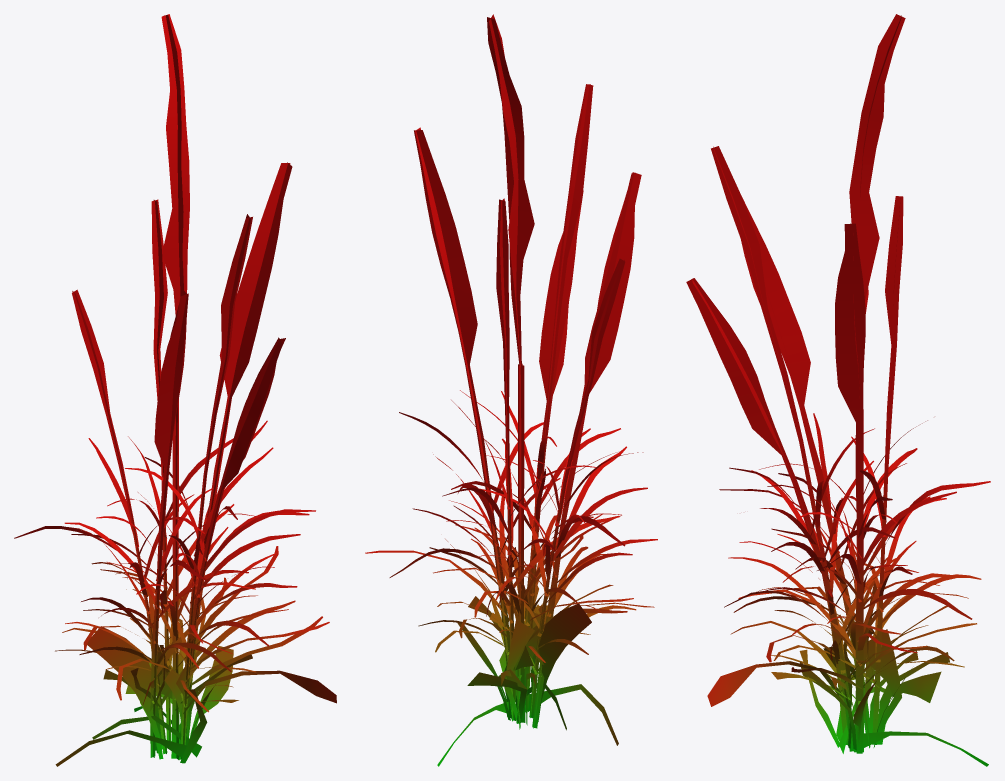
The model's file is Var2_LOD1.fbx.
3 renders of one model, left to right at view 1: azimuth 30°, elevation 25°; view 2: azimuth 150°, elevation 25°; view 3: azimuth 270°, elevation 25°, orthographic. The views are drawn at different scales.
Visible parts, largest first — view 1: _d71e_Var2_LOD1; view 2: _d71e_Var2_LOD1; view 3: _d71e_Var2_LOD1.
Part boxes in pixels (x1,y1,x2,y2): _d71e_Var2_LOD1: (14,14,336,766); _d71e_Var2_LOD1: (365,14,657,766); _d71e_Var2_LOD1: (686,14,990,766).
Size of the model in its own units: 21.98 by 58.3 by 21.52.
